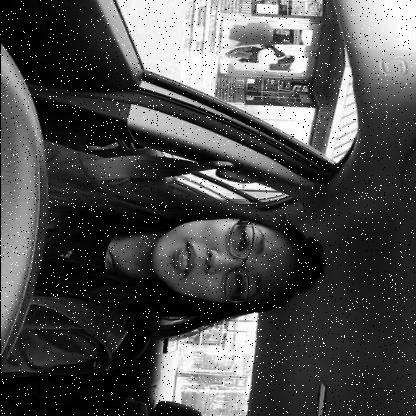seatbelt: (17, 151, 332, 322)
